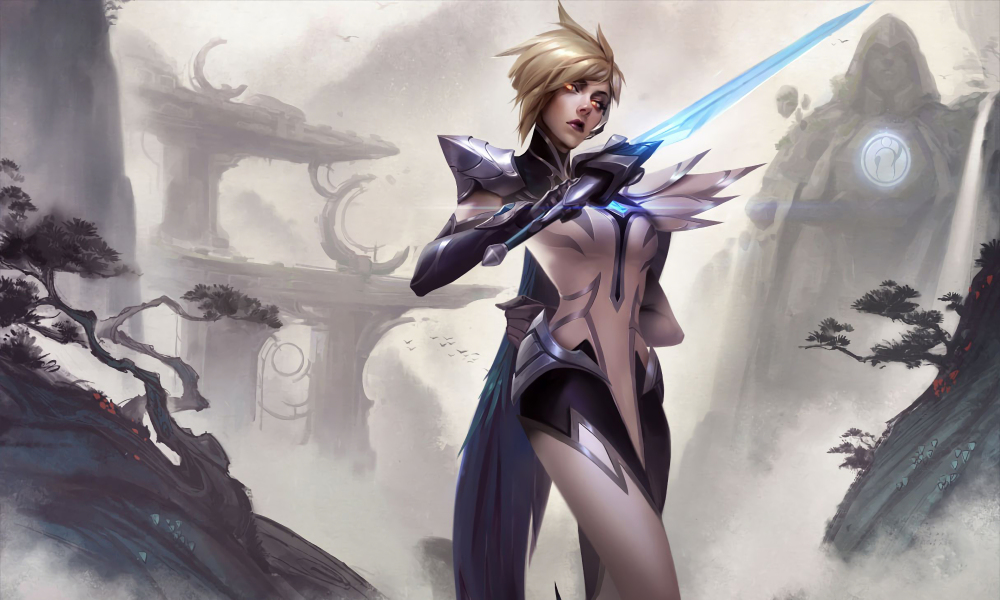face: (489, 5, 638, 165)
